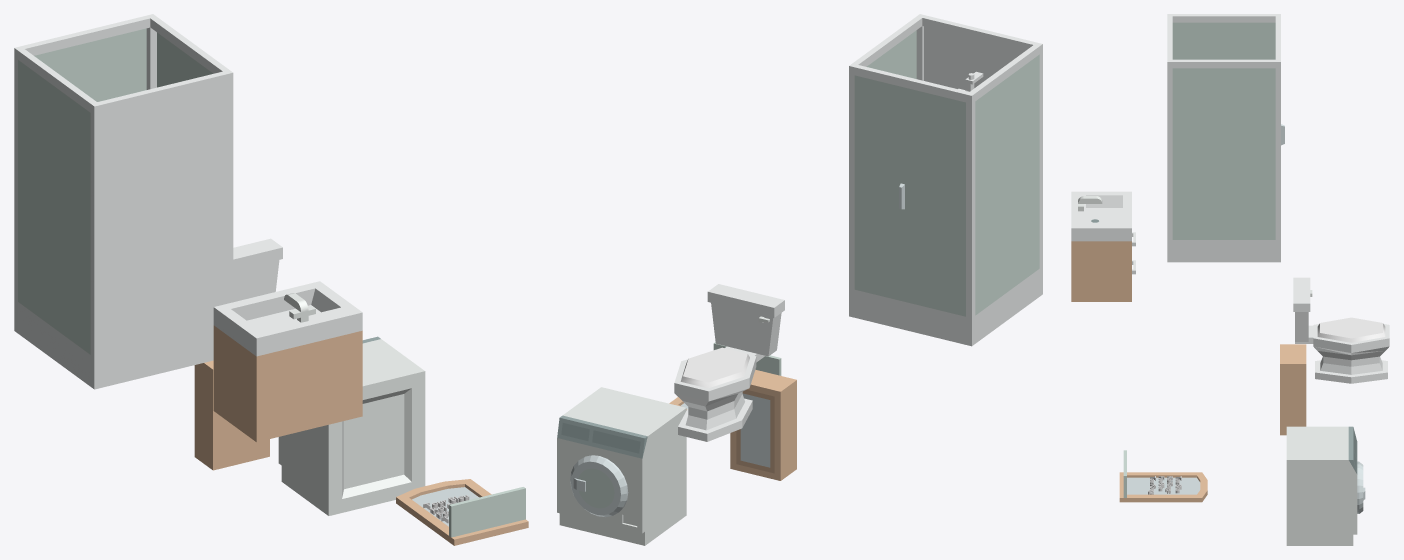
Rendered from bathroom2.dae.
The picture shows the model from 3 angles, left to right: view 1: azimuth 30°, elevation 25°; view 2: azimuth 150°, elevation 25°; view 3: azimuth 270°, elevation 25°; orthographic projection. The views are drawn at different scales.
Visible parts, largest first — view 1: shower, bathroomCabinetDrawer, washer, bathroomMirror, bathroomCabinet, doorRight, toilet, doorLeft; view 2: shower, washer, doorRight, doorLeft, toilet, bathroomCabinet, washerDoor, door, cover, bathroomMirror; view 3: shower, washer, bathroomCabinetDrawer, toilet, bathroomMirror, bathroomCabinet, cover, MiroirClue.
Part boxes in pixels (x1,y1,x2,y2): shower: (14, 14, 233, 389); bathroomCabinetDrawer: (213, 281, 362, 442); washer: (278, 336, 425, 515); bathroomMirror: (396, 479, 528, 545); bathroomCabinet: (194, 360, 269, 470); doorRight: (83, 28, 146, 101); toilet: (233, 238, 282, 302); doorLeft: (34, 44, 83, 91); shower: (849, 14, 1042, 346); washer: (557, 387, 686, 545); doorRight: (854, 75, 910, 302); doorLeft: (910, 89, 965, 316); toilet: (674, 284, 784, 441); bathroomCabinet: (730, 369, 796, 480); washerDoor: (570, 455, 628, 517); door: (736, 389, 774, 473); cover: (680, 347, 749, 388); bathroomMirror: (669, 342, 781, 409); shower: (1167, 14, 1280, 262); washer: (1286, 426, 1357, 545); bathroomCabinetDrawer: (1071, 191, 1131, 301); toilet: (1293, 277, 1389, 383); bathroomMirror: (1119, 450, 1207, 502); bathroomCabinet: (1280, 344, 1306, 435); cover: (1317, 317, 1385, 342); MiroirClue: (1148, 476, 1181, 494).
Size of the model in its own units: 1.68 by 1.58 by 2.12.
